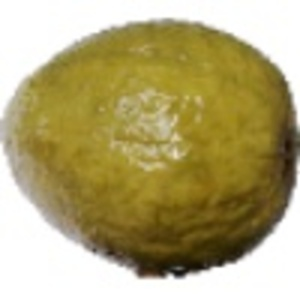goiaba: (3, 12, 296, 279)
